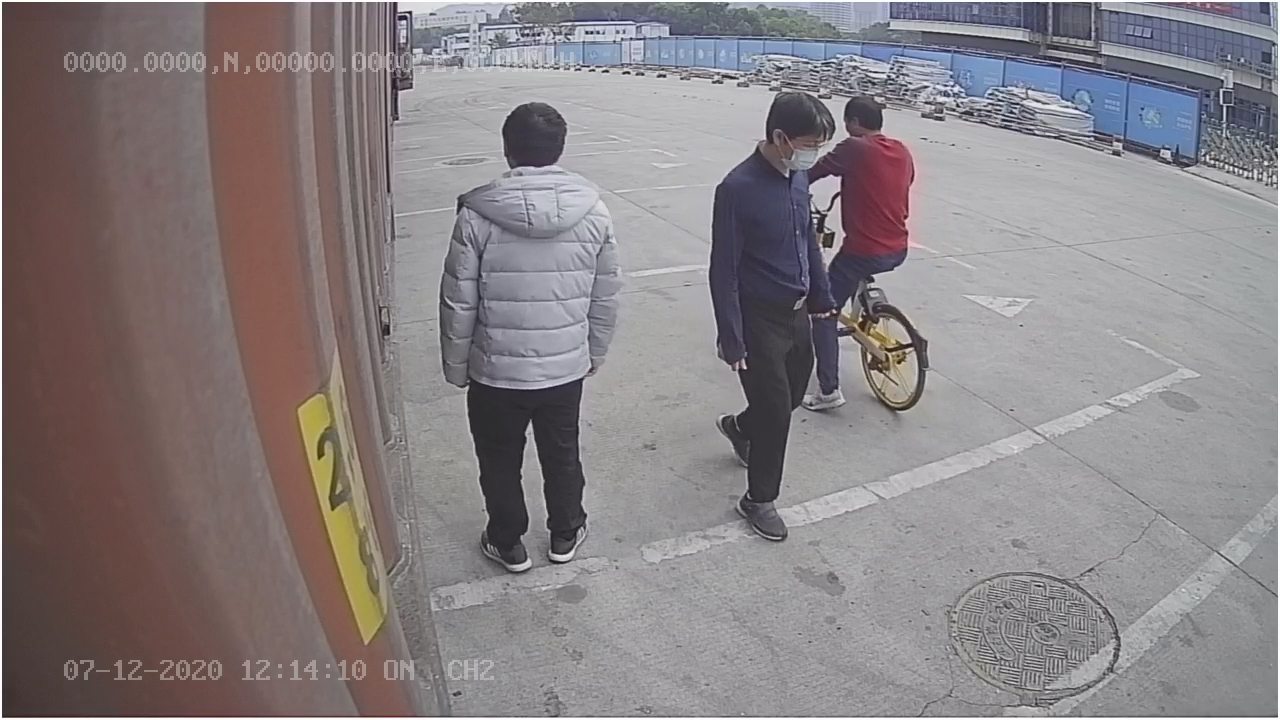person: (438, 96, 625, 575)
